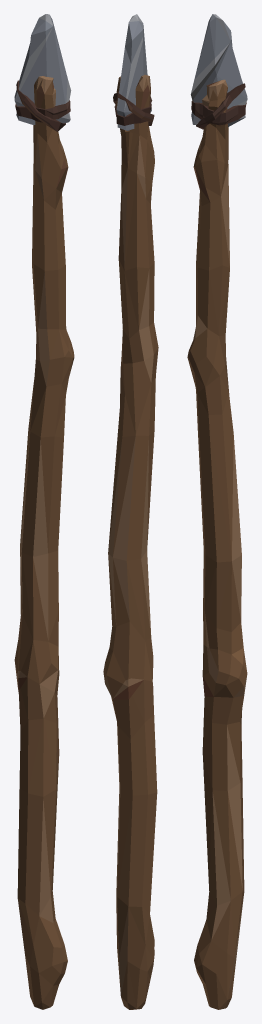
The model's file is mesh_spear_stone.fbx.
3 views of the same model, side by side, from view 1: azimuth 90°, elevation 25°; view 2: azimuth 150°, elevation 25°; view 3: azimuth 270°, elevation 25° (orthographic).
Visible parts, largest first — view 1: mesh_spear_stone; view 2: mesh_spear_stone; view 3: mesh_spear_stone.
Boxes of the visible parts, left/top/right/bottom form: mesh_spear_stone: left=14, top=14, right=74, bottom=1009; mesh_spear_stone: left=103, top=14, right=158, bottom=1009; mesh_spear_stone: left=187, top=14, right=247, bottom=1009.
Bounding box in the file's own units: 0.094 × 1.94 × 0.1061.
